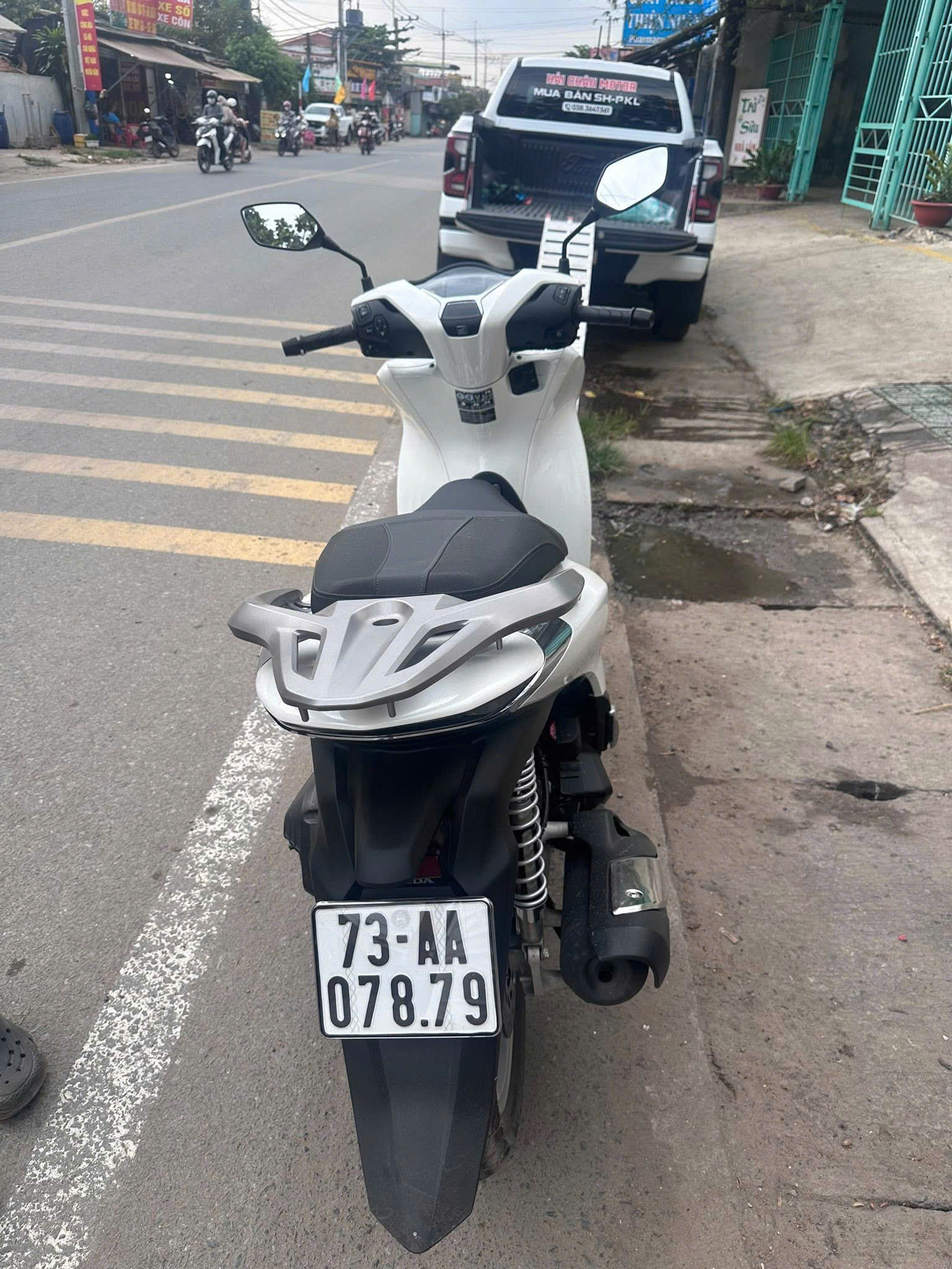Bien-so: (314, 900, 499, 1052)
